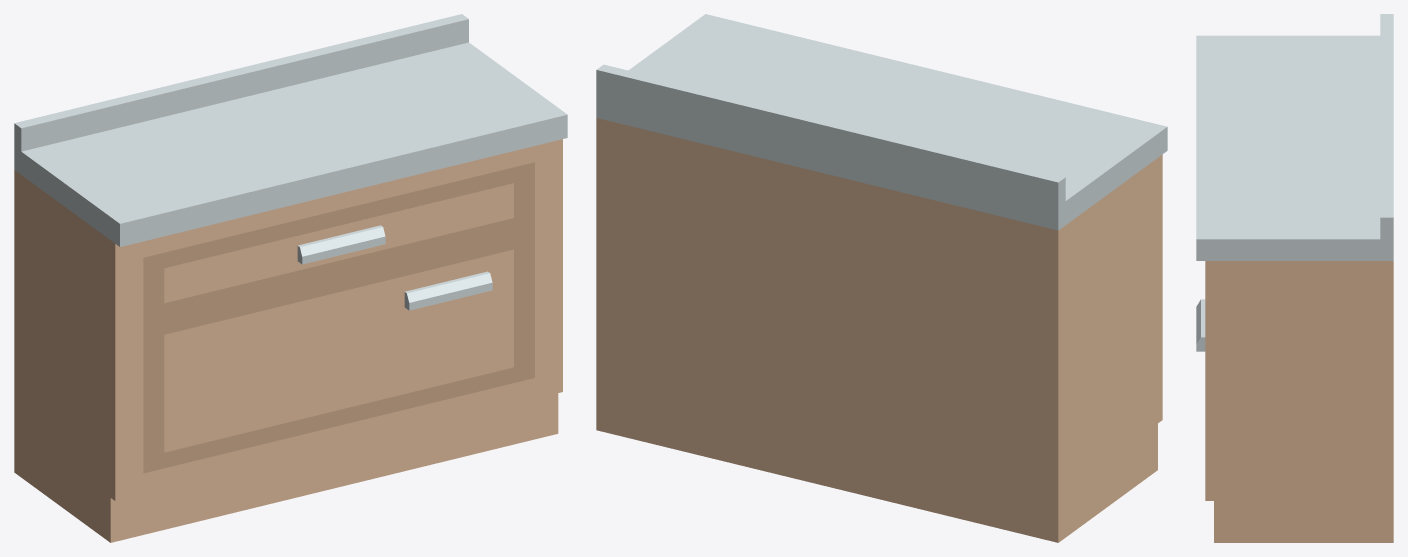
Rendered from kk-kitchenCabinetDrawer-dresser.glb.
3 views of the same model, side by side, from view 1: azimuth 30°, elevation 25°; view 2: azimuth 150°, elevation 25°; view 3: azimuth 270°, elevation 25° (orthographic). The views are drawn at different scales.
Parts seen in each view (by area): view 1: kitchenCabinetDrawer(Clone), door; view 2: kitchenCabinetDrawer(Clone); view 3: kitchenCabinetDrawer(Clone).
Boxes of the visible parts, bbox=[...] form: kitchenCabinetDrawer(Clone): bbox=[14, 14, 567, 542]; door: bbox=[143, 162, 534, 473]; kitchenCabinetDrawer(Clone): bbox=[596, 14, 1167, 542]; kitchenCabinetDrawer(Clone): bbox=[1196, 14, 1393, 542].
Bounding box in the file's own units: 1 × 0.7454 × 0.4091.
